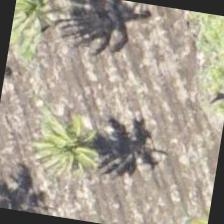Kelapa_Sawit: (19, 96, 122, 198), (8, 0, 83, 62), (158, 178, 214, 223)
